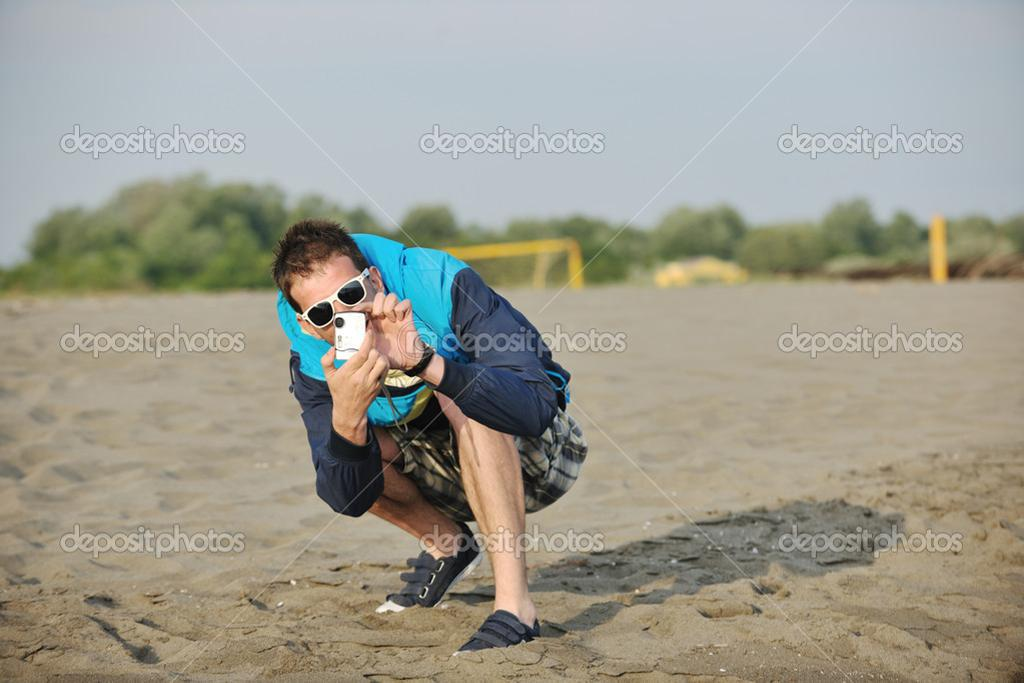face: (288, 244, 388, 358)
